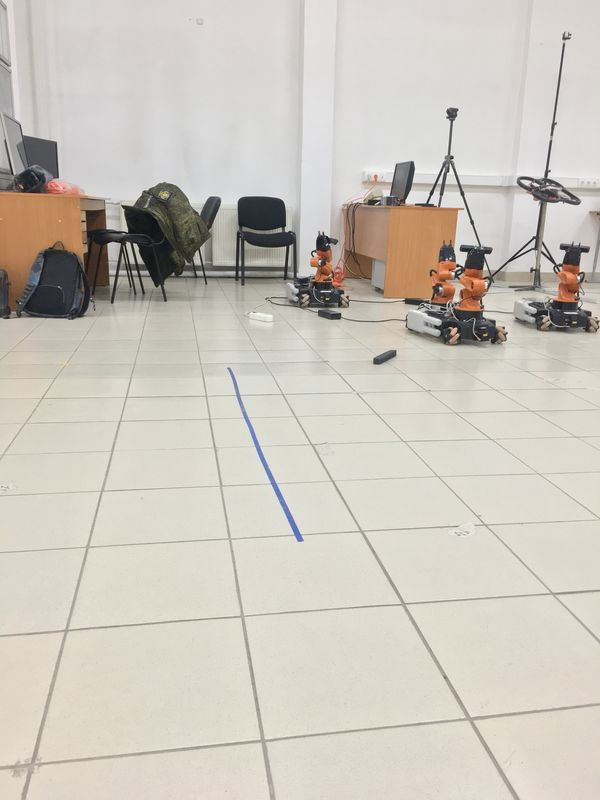socket: (242, 309, 280, 326)
